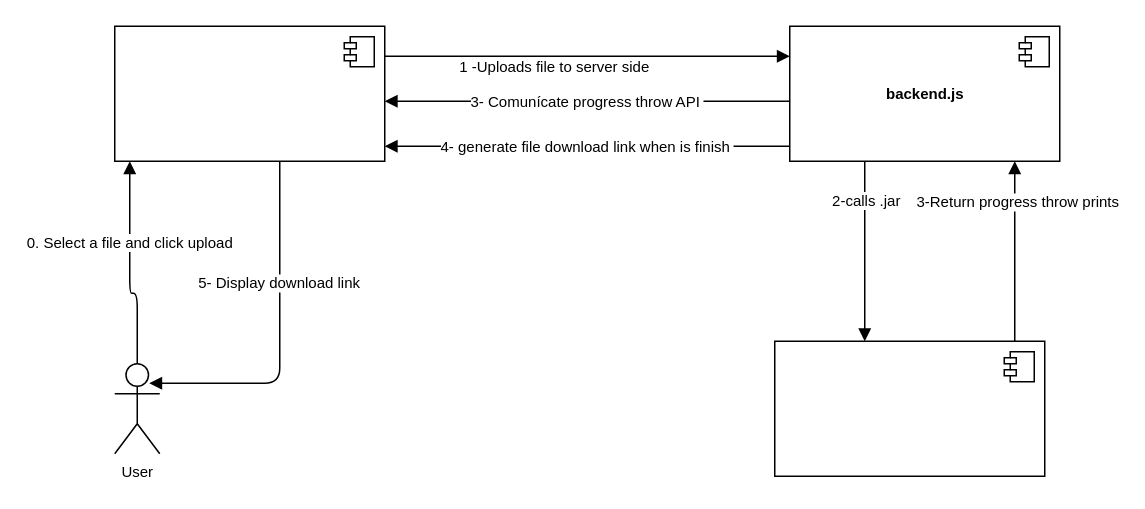
The diagram is 1145 pixels wide and 509 high, and some of its shapes have lost their labels. The centre of each missing label's shape, as x and y in pixels:
"Angular App" belongs at pixel 249 93.
"videoConverterMockTest.jar" belongs at pixel 909 408.
